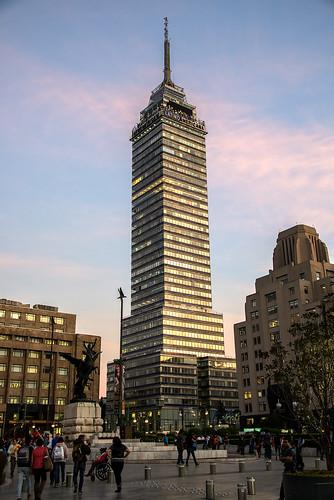building: (117, 76, 232, 446)
